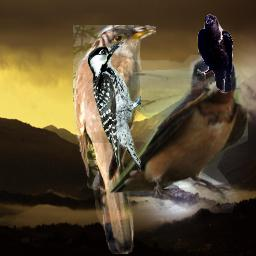Crow: (197, 14, 233, 94)
Cuckoo: (73, 25, 156, 254)
Swallow: (109, 55, 248, 213)
Woodpecker: (87, 40, 141, 172)
